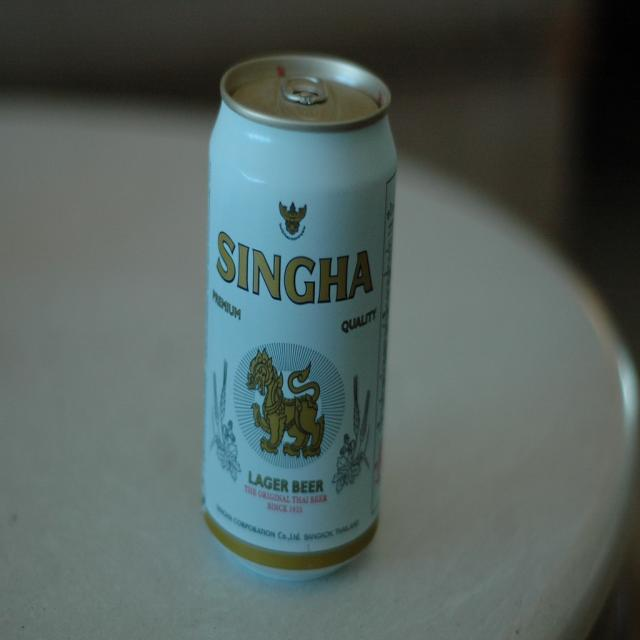singha: (207, 222, 378, 522)
